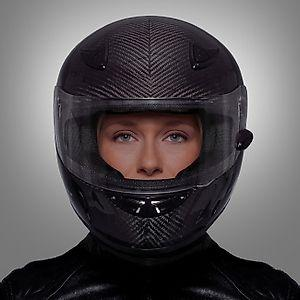helmet: (41, 11, 262, 267)
